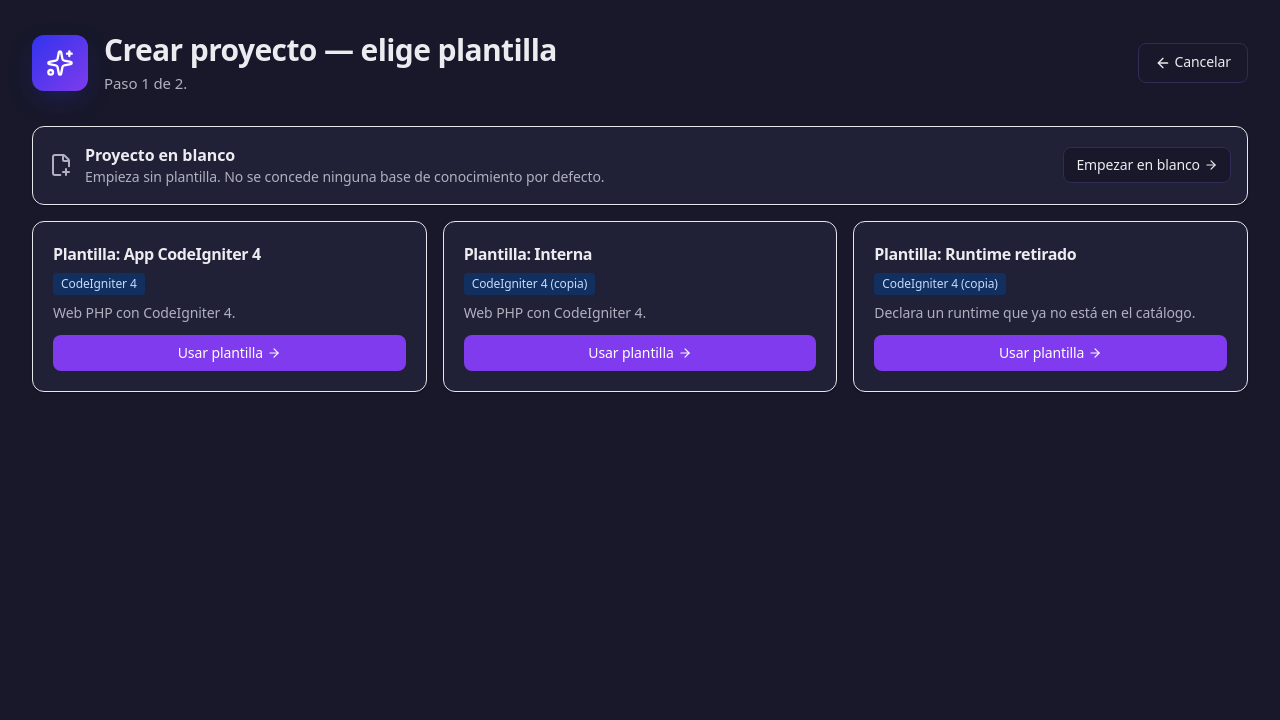
Test: El runtime de la plantilla que no está en el catálogo › si el catálogo no contesta NO se acusa al runtime de no existir
Click the button "Usar plantilla" below "Plantilla: Runtime retirado".
click(1051, 353)  # box [874,335,1227,371]
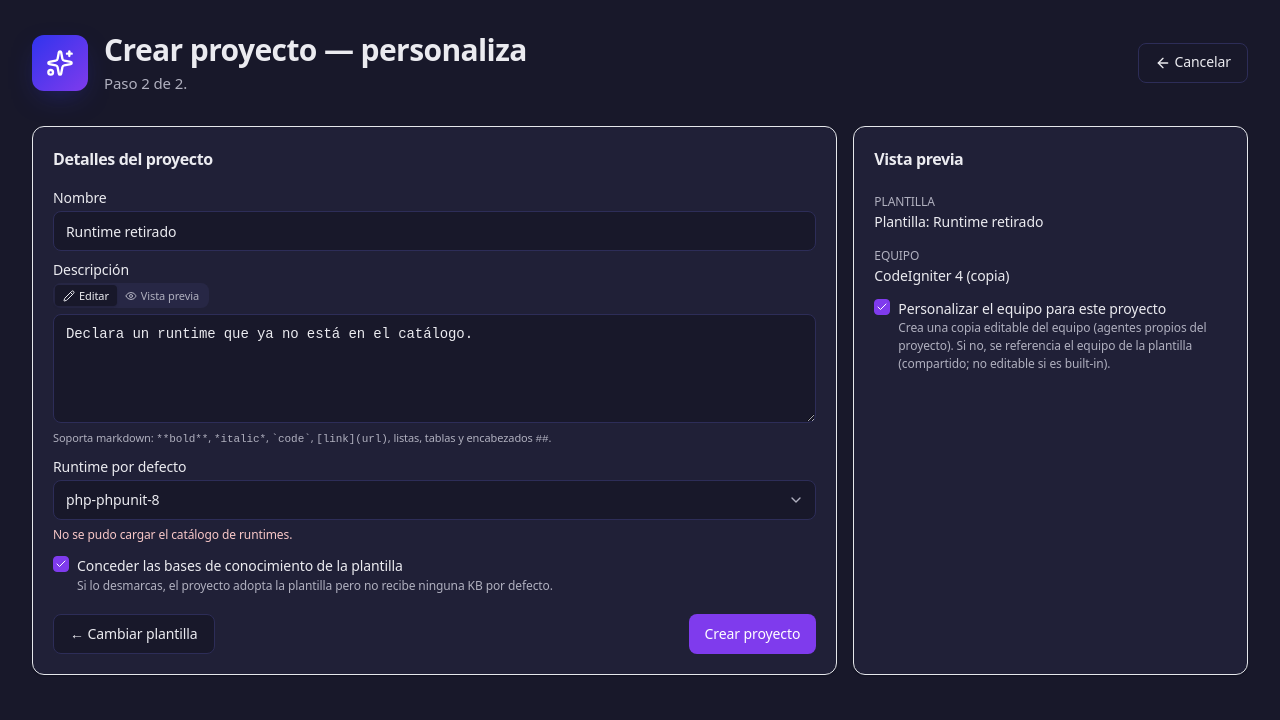
Result: the element with test id "wizard-step-2" is shown
Result: the text "No se pudo cargar el catálogo de runtimes." is shown at [53,526,292,544]
Result: the dropdown with test id "wizard-runtime-select" shows "php-phpunit-8" at [53,480,816,520]
